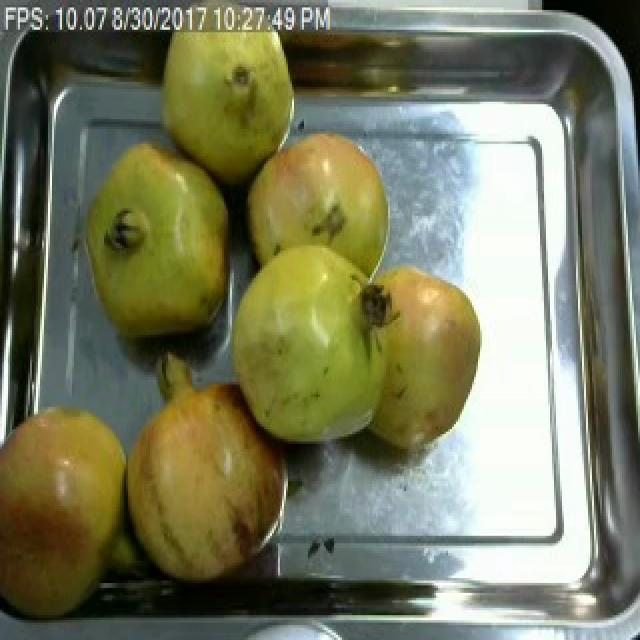fruit: (112, 355, 306, 598), (216, 224, 406, 462), (74, 124, 240, 352), (0, 382, 144, 635), (148, 2, 302, 191), (354, 253, 488, 459), (240, 124, 398, 275)
